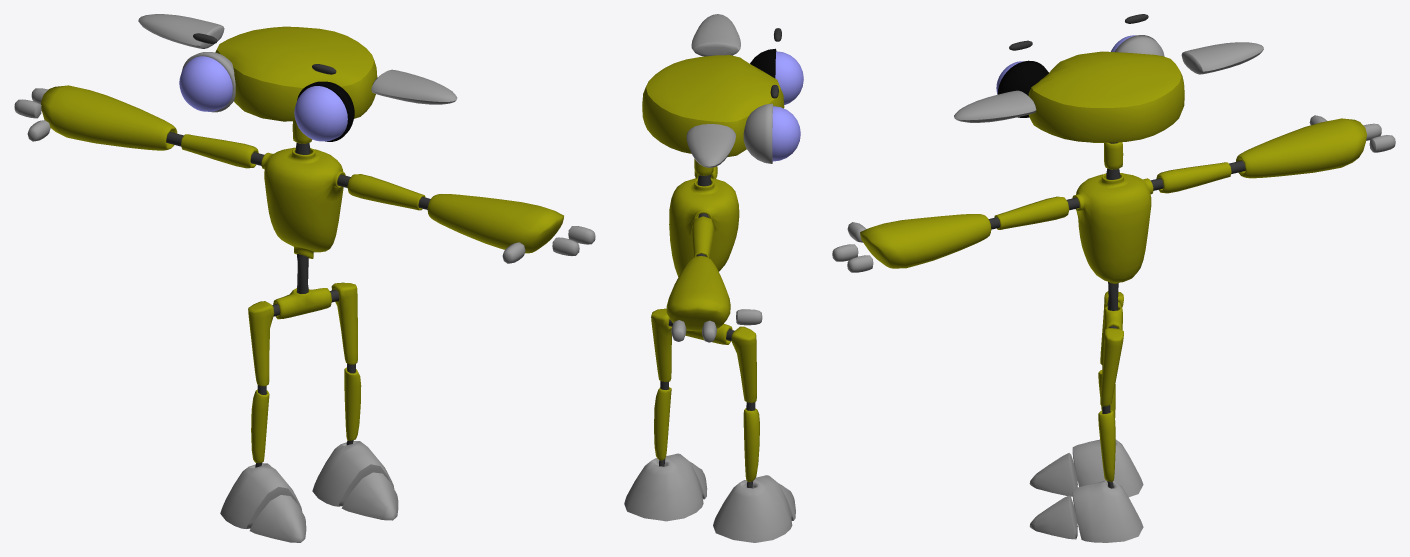
Rendered from die11.obj.
3 renders of one model, left to right at view 1: azimuth 30°, elevation 25°; view 2: azimuth 150°, elevation 25°; view 3: azimuth 270°, elevation 25°, orthographic. The views are drawn at different scales.
Parts seen in each view (by area): view 1: Mesh polySurface50, Mesh polySurface41, Mesh polySurface37, Mesh polySurface18, Mesh polySurface48, Mesh polySurface26, Mesh polySurface10, Mesh polySurface22, Mesh polySurface6, Mesh polySurface8, Mesh polySurface24, Mesh polySurface44 (+8 smaller); view 2: Mesh polySurface50, Mesh polySurface41, Mesh polySurface26, Mesh polySurface10, Mesh polySurface37, Mesh polySurface48, Mesh polySurface47, Mesh polySurface21, Mesh polySurface28, Mesh polySurface22, Mesh polySurface12, Mesh polySurface44 (+10 smaller); view 3: Mesh polySurface41, Mesh polySurface50, Mesh polySurface48, Mesh polySurface37, Mesh polySurface18, Mesh polySurface10, Mesh polySurface26, Mesh polySurface44, Mesh polySurface51, Mesh polySurface38, Mesh polySurface47, Mesh polySurface12 (+5 smaller).
Boxes of the visible parts, x1,y1,x2,y2 form: Mesh polySurface50: [217, 26, 373, 88]; Mesh polySurface41: [261, 147, 345, 258]; Mesh polySurface37: [41, 85, 177, 150]; Mesh polySurface18: [427, 194, 563, 253]; Mesh polySurface48: [215, 49, 377, 121]; Mesh polySurface26: [220, 463, 302, 528]; Mesh polySurface10: [312, 441, 394, 506]; Mesh polySurface22: [179, 56, 232, 111]; Mesh polySurface6: [294, 86, 347, 141]; Mesh polySurface8: [341, 472, 398, 520]; Mesh polySurface24: [249, 495, 306, 542]; Mesh polySurface44: [371, 69, 457, 101]; Mesh polySurface50: [646, 55, 780, 122]; Mesh polySurface41: [669, 178, 739, 276]; Mesh polySurface26: [713, 475, 792, 542]; Mesh polySurface10: [624, 453, 703, 521]; Mesh polySurface37: [666, 256, 730, 331]; Mesh polySurface48: [642, 83, 784, 156]; Mesh polySurface47: [686, 124, 735, 166]; Mesh polySurface21: [743, 103, 773, 163]; Mesh polySurface28: [731, 326, 756, 402]; Mesh polySurface22: [772, 106, 800, 161]; Mesh polySurface12: [651, 308, 671, 381]; Mesh polySurface44: [691, 14, 740, 49]; Mesh polySurface41: [1072, 173, 1153, 283]; Mesh polySurface50: [1031, 51, 1181, 107]; Mesh polySurface48: [1028, 71, 1184, 142]; Mesh polySurface37: [1236, 118, 1366, 178]; Mesh polySurface18: [860, 214, 991, 268]; Mesh polySurface10: [1072, 480, 1143, 542]; Mesh polySurface26: [1072, 439, 1143, 497]; Mesh polySurface44: [954, 90, 1036, 120]; Mesh polySurface51: [994, 196, 1069, 229]; Mesh polySurface38: [1156, 162, 1231, 193]; Mesh polySurface47: [1183, 42, 1263, 71]; Mesh polySurface12: [1100, 328, 1123, 406].
Size of the model in its own units: 10.05 by 14.23 by 16.07.
